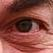eye: (16, 20, 31, 32)
